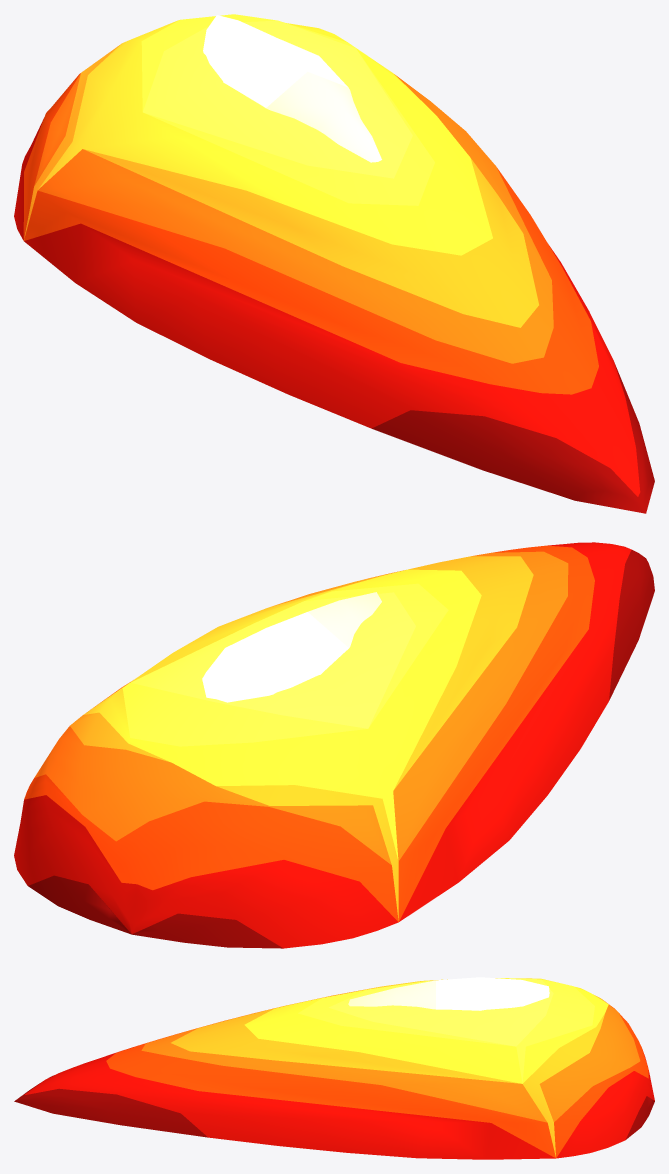
The model's file is shot_fireball_comet.glb.
3 views of the same model, one above another, from view 1: azimuth 30°, elevation 25°; view 2: azimuth 150°, elevation 25°; view 3: azimuth 270°, elevation 25° (orthographic). The views are drawn at different scales.
Visible parts, largest first — view 1: shot_fireball_comet_fire, shot_fireball_comet_core; view 2: shot_fireball_comet_fire, shot_fireball_comet_core; view 3: shot_fireball_comet_fire, shot_fireball_comet_core.
Part boxes in pixels (left/top/right/bottom): shot_fireball_comet_fire: left=14, top=14, right=654, bottom=513; shot_fireball_comet_core: left=203, top=15, right=381, bottom=162; shot_fireball_comet_fire: left=14, top=542, right=654, bottom=948; shot_fireball_comet_core: left=202, top=592, right=381, bottom=702; shot_fireball_comet_fire: left=14, top=978, right=654, bottom=1159; shot_fireball_comet_core: left=348, top=977, right=549, bottom=1010.
Bounding box in the file's own units: 7.19 × 3.57 × 16.7.
